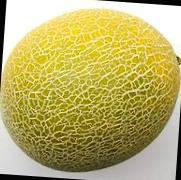Melon Ripe: (0, 1, 181, 180)
